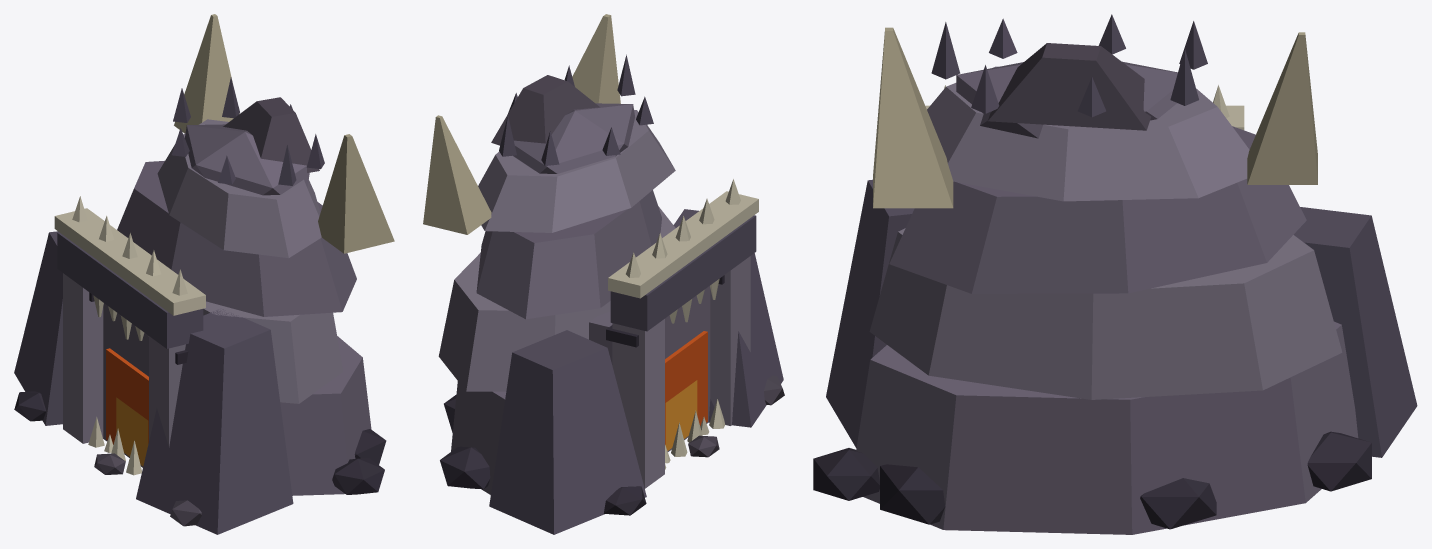
The model's file is Decor_DragonLair_Cave.fbx.
3 renders of one model, left to right at view 1: azimuth 30°, elevation 25°; view 2: azimuth 150°, elevation 25°; view 3: azimuth 270°, elevation 25°, orthographic. The views are drawn at different scales.
Visible parts, largest first — view 1: Cave_Body; view 2: Cave_Body; view 3: Cave_Body.
Part boxes in pixels (bbox=[...]): Cave_Body: bbox=[14, 14, 394, 534]; Cave_Body: bbox=[423, 14, 784, 534]; Cave_Body: bbox=[813, 14, 1417, 534].
Size of the model in its own units: 22.93 by 32.94 by 36.83.
